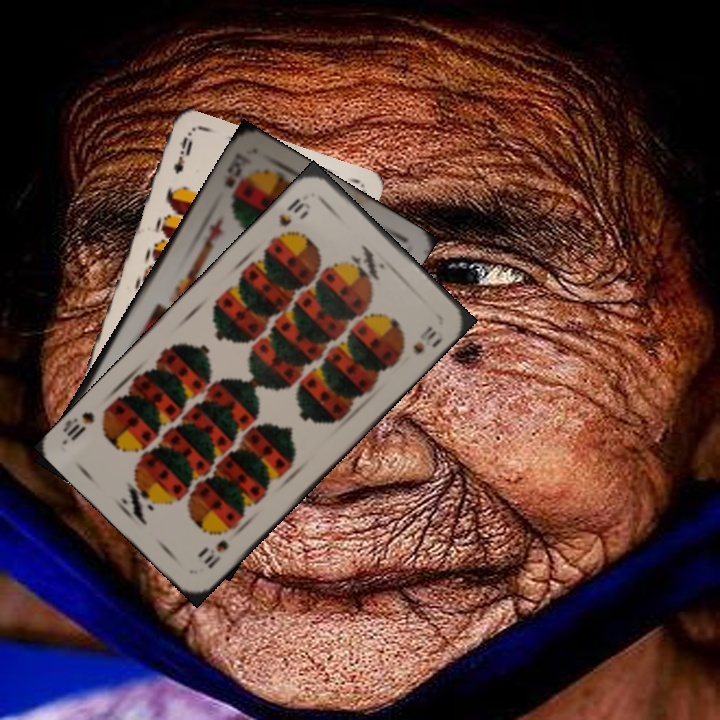E9: (169, 131, 195, 177)
S10: (274, 194, 313, 230), (196, 535, 231, 572)
SK: (220, 150, 254, 190)
